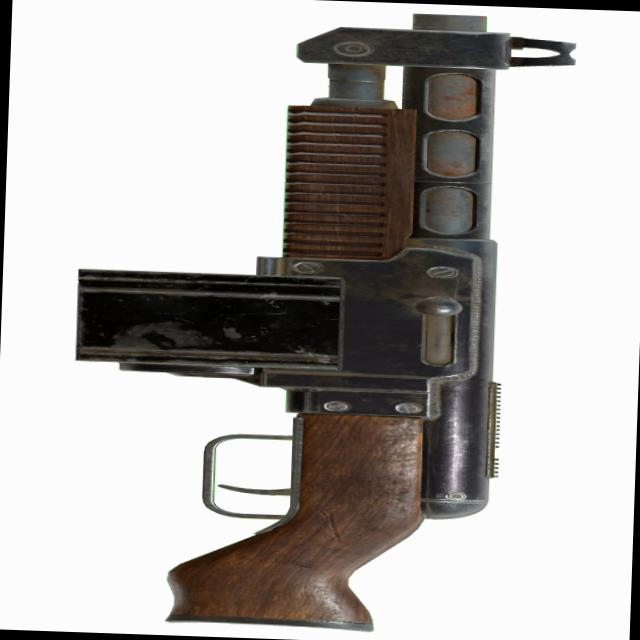long weapon: (25, 2, 592, 635)
